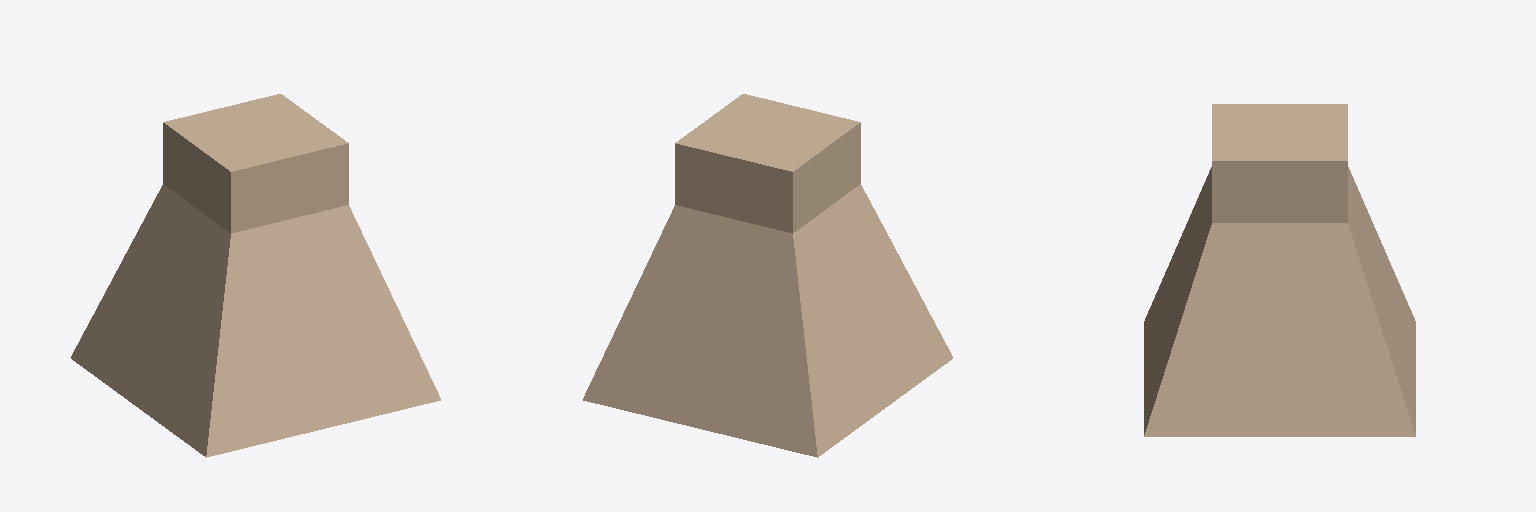
The model's file is difurnace_extension.obj.
3 renders of one model, left to right at view 1: azimuth 30°, elevation 25°; view 2: azimuth 150°, elevation 25°; view 3: azimuth 270°, elevation 25°, orthographic.
Parts seen in each view (by area): view 1: Side, Top; view 2: Side, Top; view 3: Side, Top.
Part boxes in pixels (x1,y1,x2,y2): Side: (71, 123, 440, 457); Top: (163, 94, 347, 171); Side: (583, 123, 952, 457); Top: (676, 94, 860, 171); Side: (1144, 161, 1415, 436); Top: (1212, 104, 1347, 160).
Bounding box in the file's own units: 1 × 1 × 1.